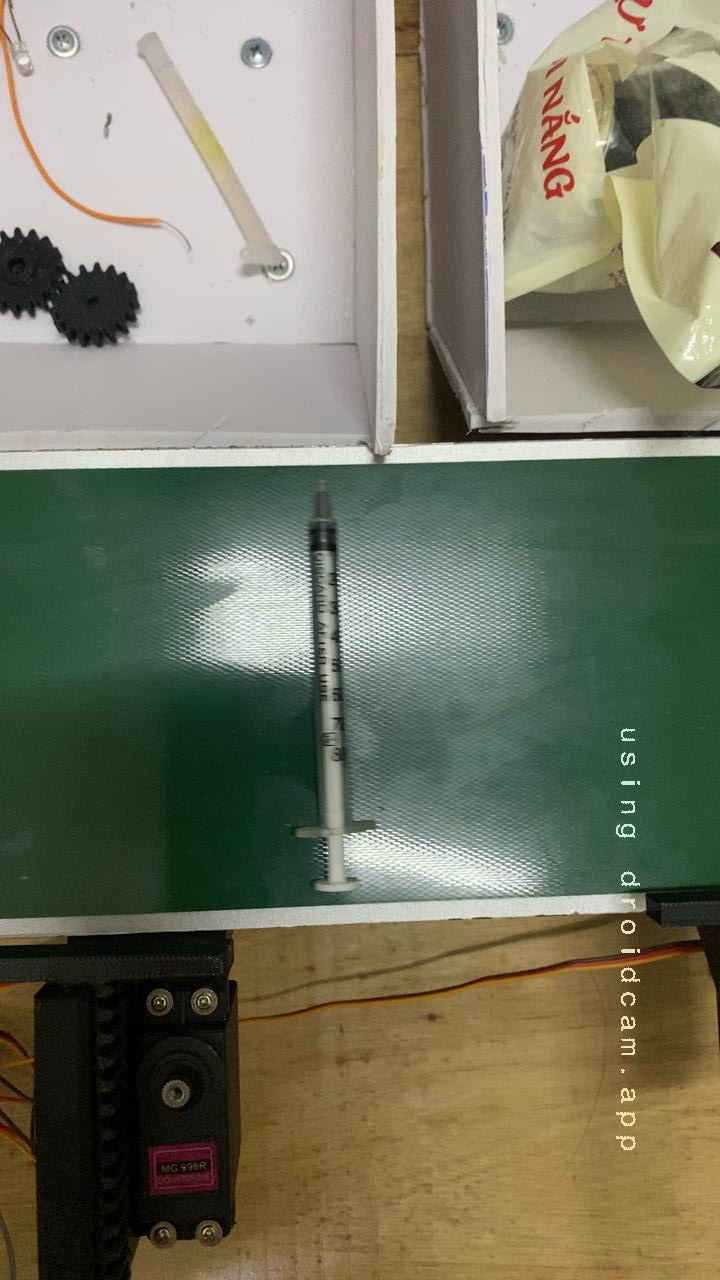syringe: (267, 516, 388, 880)
